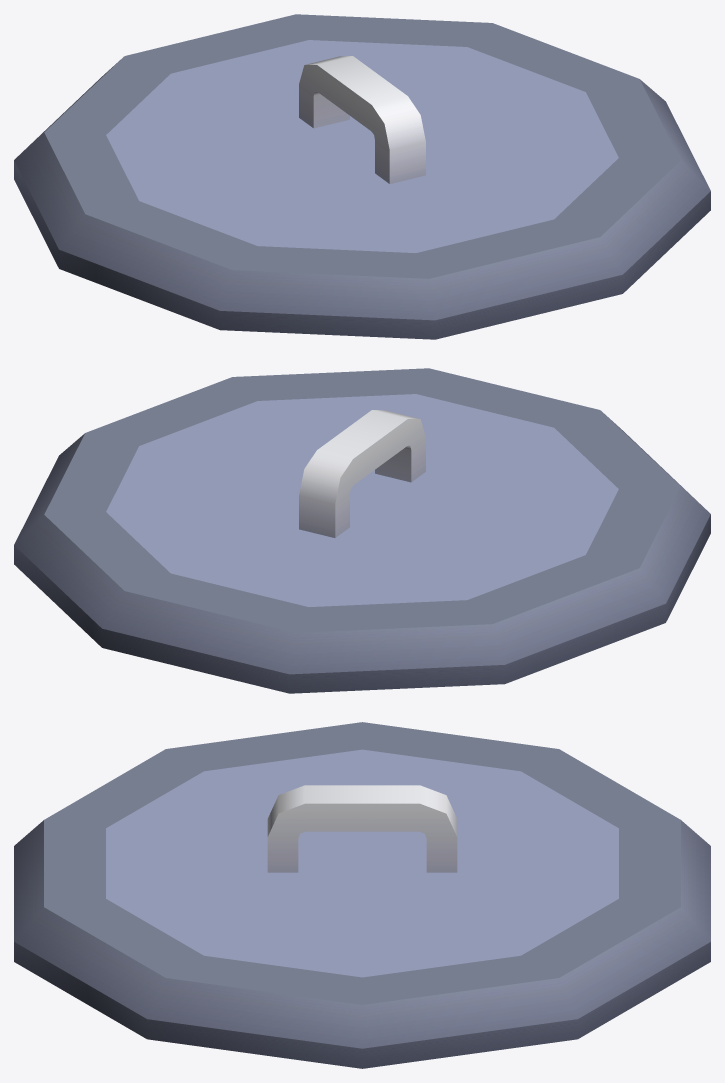
File: pot-lid.glb
3 views of the same model, one above another, from view 1: azimuth 30°, elevation 25°; view 2: azimuth 150°, elevation 25°; view 3: azimuth 270°, elevation 25° (orthographic). The views are drawn at different scales.
Visible parts, largest first — view 1: pot-lid; view 2: pot-lid; view 3: pot-lid.
Boxes of the visible parts, x1=… form: pot-lid: x1=14, y1=14, x2=710, y2=339; pot-lid: x1=14, y1=368, x2=710, y2=693; pot-lid: x1=14, y1=722, x2=710, y2=1068.
Bounding box in the file's own units: 0.6574 × 0.1184 × 0.6253.
Materials: 1 (1 with a texture image).
